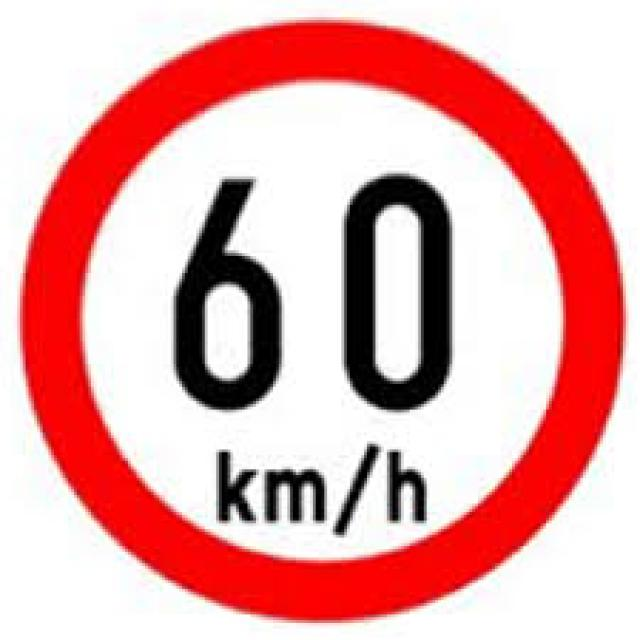Limite-60: (14, 11, 630, 631)
